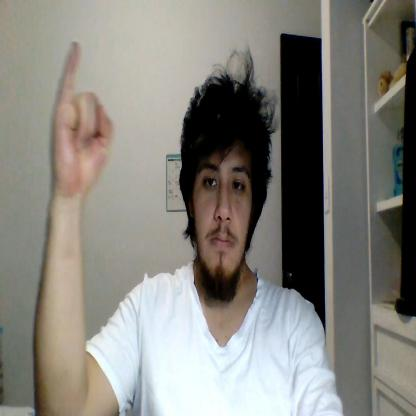I: (49, 41, 113, 192)
